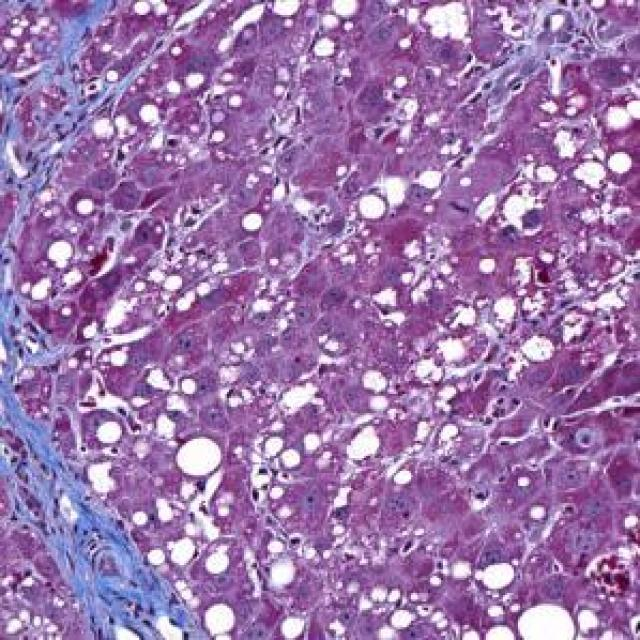fibrosis: (15, 430, 169, 621), (21, 30, 118, 186)
